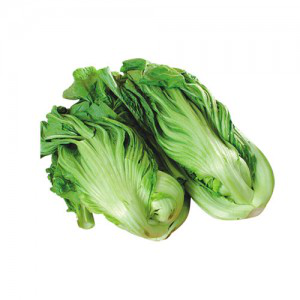Sawi: (47, 79, 266, 242)
